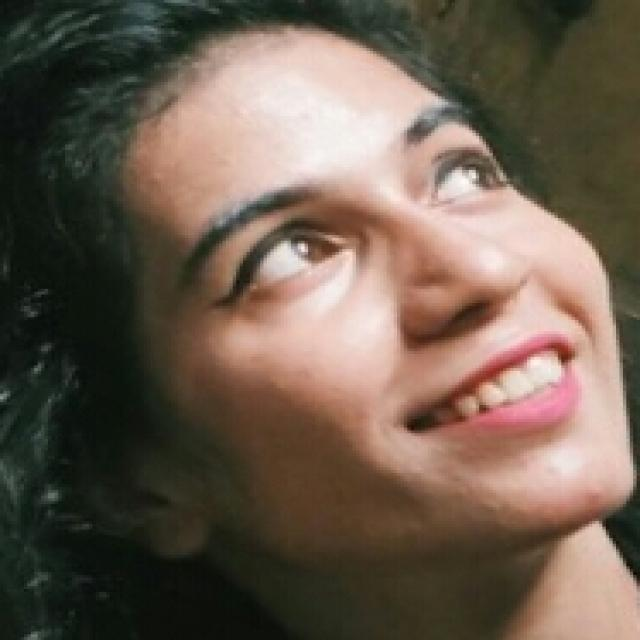front: (150, 88, 620, 508)
